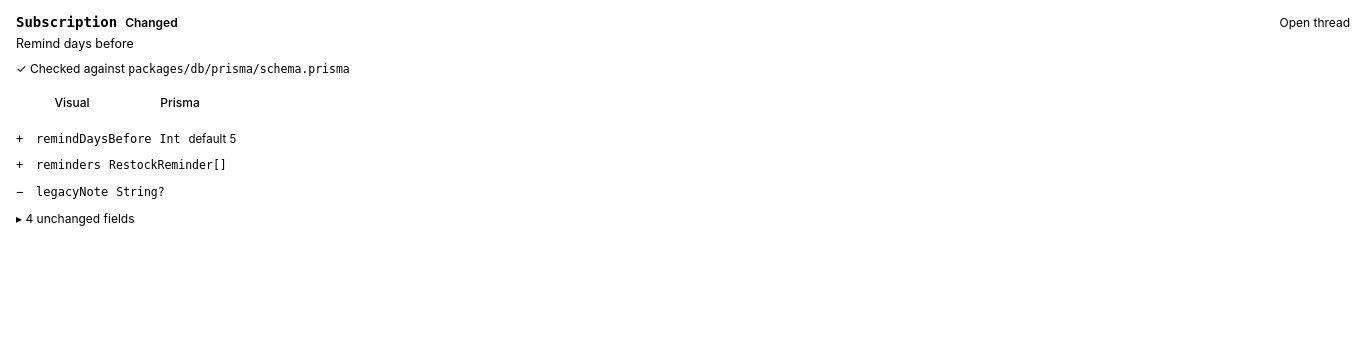
Test case: TableCard › shows changed fields, folds unchanged ones, and switches to the Prisma diff
Check: the element with test id "table-checks" shows "Checked against packages/db/prisma/schema.prisma", box [16, 61, 350, 76]
Check: the text "default 5" is shown, box [188, 131, 236, 148]
Click the button "▸ 4 unchanged fields": (75,219) [16, 210, 134, 228]
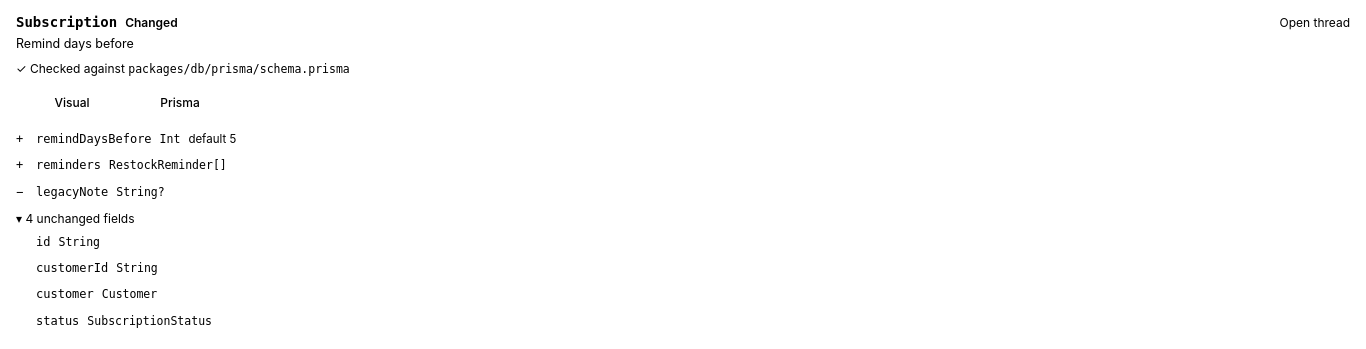
Check: the number of list items with test id "field-row" is 7
Click the tab "Prisma": (180,103) [126, 90, 234, 116]
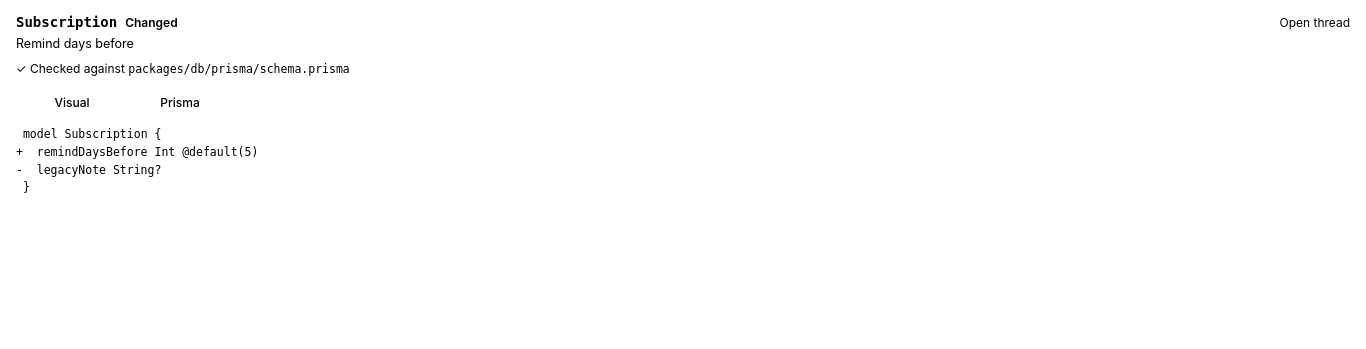
Check: no list items with test id "field-row" are shown
